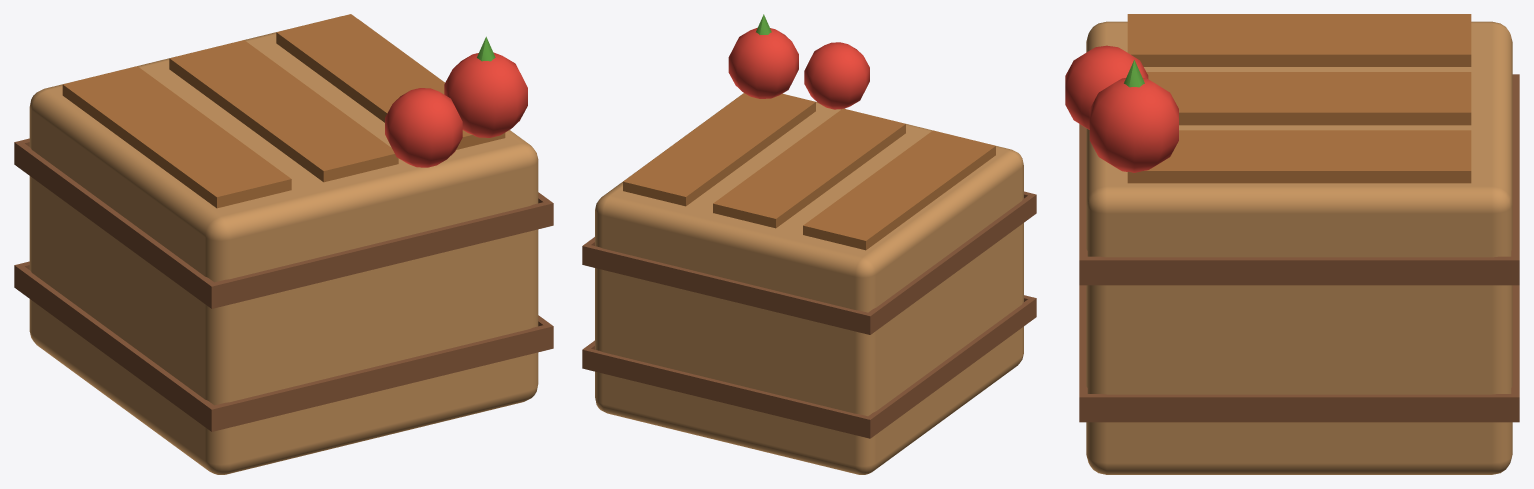
File: stump-crate.glb
3 views of the same model, side by side, from view 1: azimuth 30°, elevation 25°; view 2: azimuth 150°, elevation 25°; view 3: azimuth 270°, elevation 25° (orthographic). The views are drawn at different scales.
Size of the model in its own units: 0.64 by 0.645 by 0.6603.
